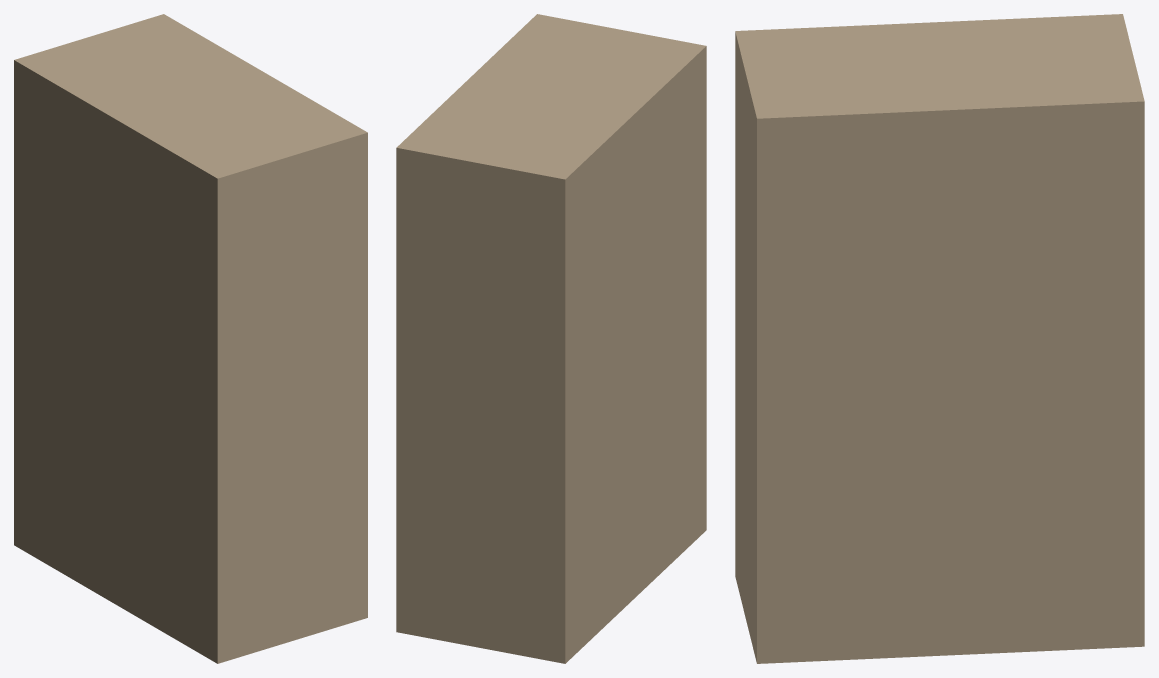
The model's file is bld_393483720.dae.
3 renders of one model, left to right at view 1: azimuth 30°, elevation 25°; view 2: azimuth 150°, elevation 25°; view 3: azimuth 270°, elevation 25°, orthographic. The views are drawn at different scales.
Parts seen in each view (by area): view 1: bld_393483720; view 2: bld_393483720; view 3: bld_393483720.
Boxes of the visible parts, left/top/right/bottom form: bld_393483720: left=14, top=14, right=367, bottom=663; bld_393483720: left=396, top=14, right=706, bottom=663; bld_393483720: left=735, top=14, right=1144, bottom=663.
Bounding box in the file's own units: 3.3 × 5.45 × 8.
